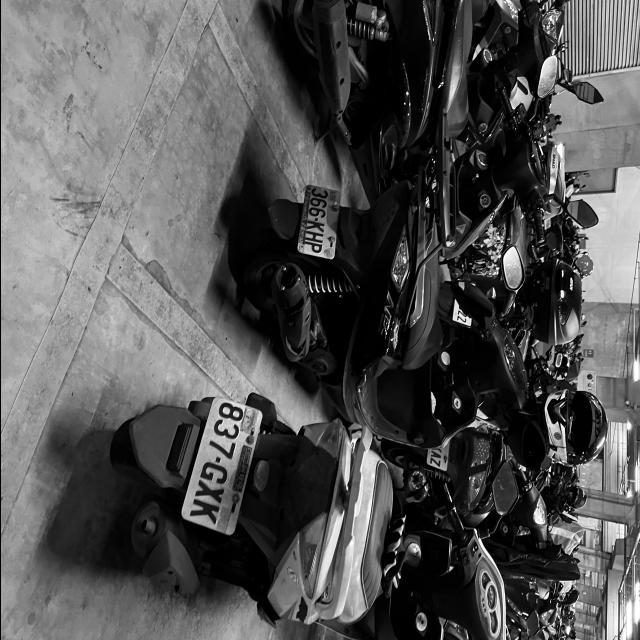-: (213, 455, 222, 467), (313, 217, 317, 222)
2: (455, 315, 466, 323)
3: (210, 417, 239, 444), (309, 187, 328, 200)
6: (309, 197, 327, 210), (308, 207, 326, 220)
7: (206, 437, 237, 461)
8: (215, 401, 242, 424)
A: (429, 450, 441, 461)
G: (198, 461, 230, 487)
H: (304, 230, 324, 245)
K: (187, 497, 221, 527), (305, 220, 325, 234)
P: (303, 240, 322, 256)
X: (193, 478, 224, 505)
Z: (428, 457, 441, 468)
plate: (178, 396, 261, 534), (296, 185, 339, 258)
